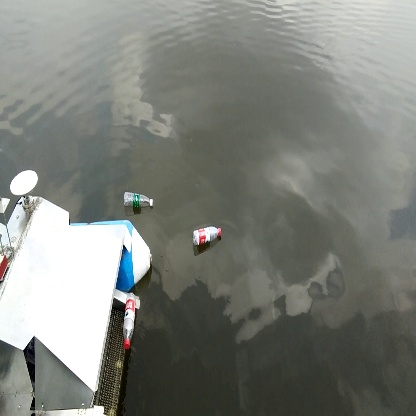bottle: (122, 291, 140, 354), (118, 188, 157, 215), (189, 220, 225, 249)
